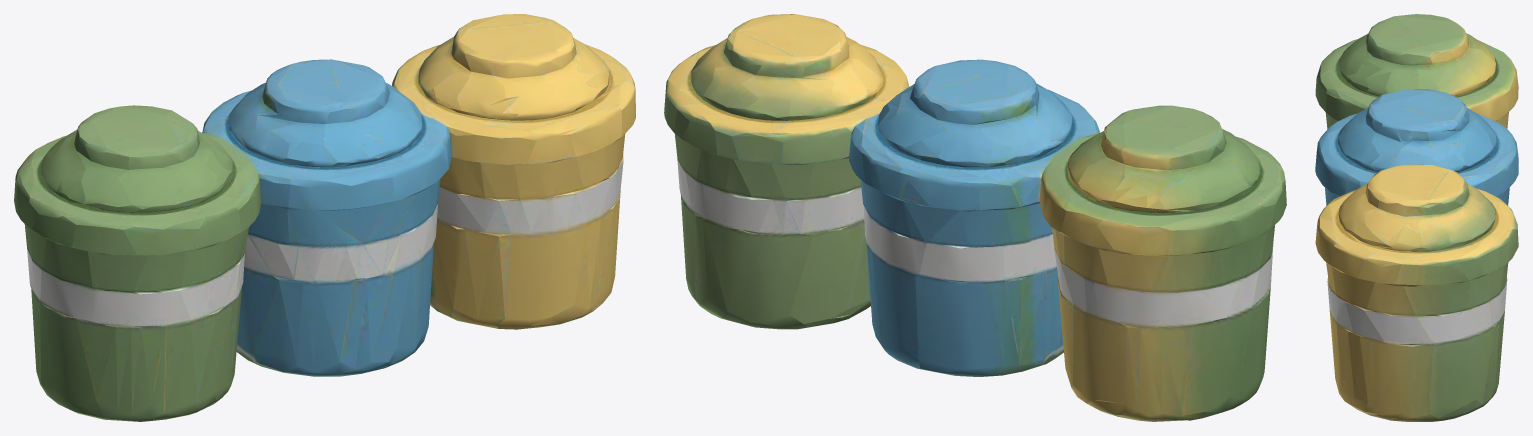
Rendered from recycling-bins.glb.
3 renders of one model, left to right at view 1: azimuth 30°, elevation 25°; view 2: azimuth 150°, elevation 25°; view 3: azimuth 270°, elevation 25°, orthographic. The views are drawn at different scales.
Bounding box in the file's own units: 1.9 × 0.7915 × 0.6967.
Materials: 1 (1 with a texture image).
